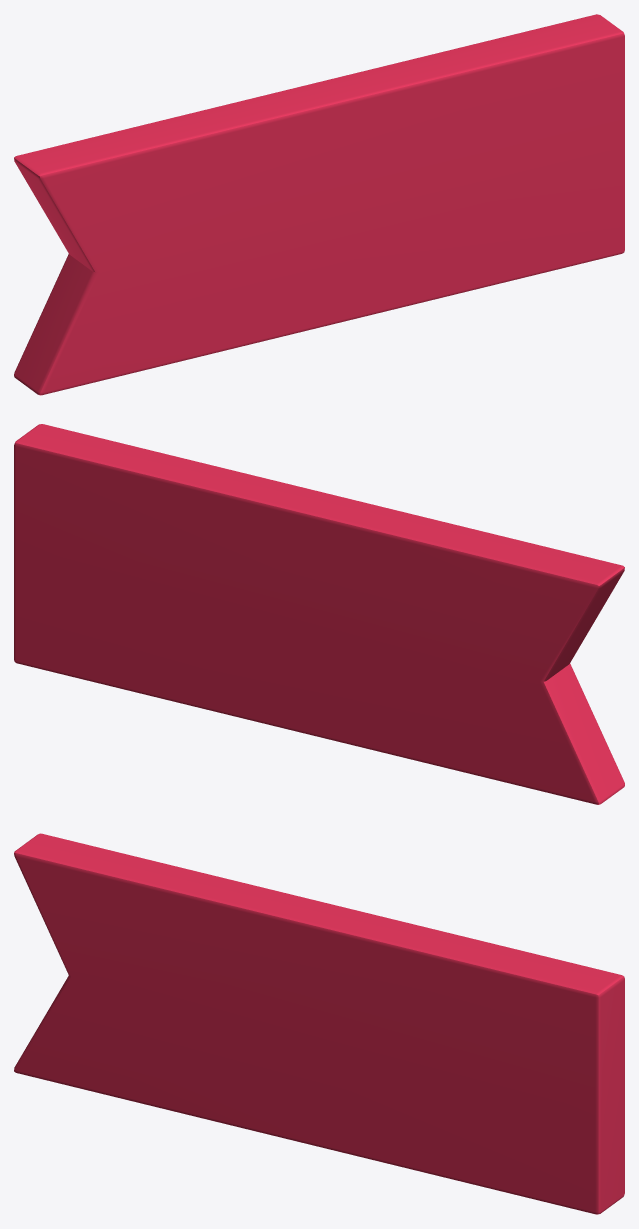
Rendered from label1.fbx.
3 renders of one model, top to bottom at view 1: azimuth 30°, elevation 25°; view 2: azimuth 150°, elevation 25°; view 3: azimuth 330°, elevation 25°, orthographic.
Visible parts, largest first — view 1: label1; view 2: label1; view 3: label1.
Boxes of the visible parts, x1,y1,x2,y2 form: label1: [14, 14, 624, 395]; label1: [14, 424, 624, 804]; label1: [14, 833, 624, 1214].
Size of the model in its own units: 85.92 by 31.11 by 6.99.
Materials: 1 (1 with a texture image).
